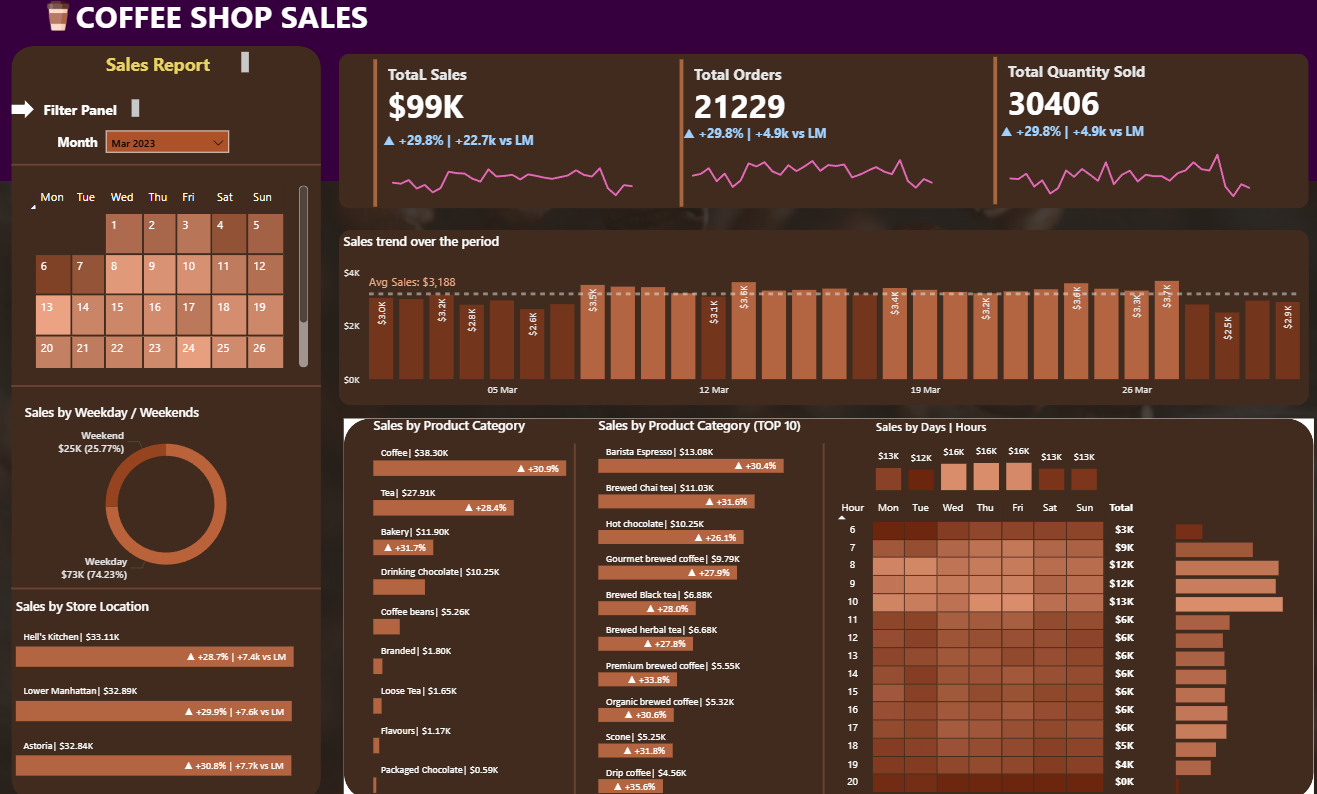

What the dashboard file says about the page in this screenshot:
{"tool":"powerbi","page":{"name":"Page 1","canvas":[1400,850],"ordinal":0},"visuals":[{"type":"shape","box":[366.7,449.4,1019.8,400.8],"z":0},{"type":"shape","box":[0,0,1400.9,199.8],"z":1000},{"type":"shape","box":[17.1,57.8,325.9,792.4],"z":2000},{"type":"shape","box":[361.4,65.7,1019.8,163],"z":3000},{"type":"textbox","box":[80.2,0,339.1,59.1],"z":4000},{"type":"cardVisual","fields":{"Data":["coffee_sales.Total Quantity Sold"]},"box":[1044.8,64.4,299.6,165.6],"z":4000,"group":"g3"},{"type":"cardVisual","fields":{"Data":["coffee_sales.TotaL Sales"]},"box":[392.9,67,299.6,165.6],"z":4000,"group":"g1"},{"type":"cardVisual","fields":{"Data":["coffee_sales.Total Orders"]},"box":[715.2,67,299.6,165.6],"z":4000,"group":"g2"},{"type":"slicer","fields":{"Values":["Date Table.Month Year"]},"box":[111.7,141.9,139.3,38.1],"z":5000},{"type":"group","id":"g1","title":"Group 1","box":[392.9,67,299.6,165.6],"z":6000},{"type":"lineChart","fields":{"Category":["Date Table.Date.Variation.Date Hierarchy.Year","Date Table.Date.Variation.Date Hierarchy.Quarter","Date Table.Date.Variation.Date Hierarchy.Month","Date Table.Date.Variation.Date Hierarchy.Day"],"Y":["coffee_sales.Total Quantity Sold"]},"box":[1052.3,137.9,281.2,85.4],"z":6000,"group":"g3"},{"type":"lineChart","fields":{"Category":["Date Table.Date.Variation.Date Hierarchy.Year","Date Table.Date.Variation.Date Hierarchy.Quarter","Date Table.Date.Variation.Date Hierarchy.Month","Date Table.Date.Variation.Date Hierarchy.Day"],"Y":["coffee_sales.Total Orders"]},"box":[718.5,140.5,281.2,85.4],"z":6000,"group":"g2"},{"type":"lineChart","fields":{"Category":["Date Table.Date.Variation.Date Hierarchy.Year","Date Table.Date.Variation.Date Hierarchy.Quarter","Date Table.Date.Variation.Date Hierarchy.Month","Date Table.Date.Variation.Date Hierarchy.Day"],"Y":["coffee_sales.TotaL Sales"]},"box":[403.9,147.1,281.2,85.4],"z":6000,"group":"g1"},{"type":"group","id":"g2","title":"Group 1","box":[715.2,67,299.6,165.6],"z":7000},{"type":"group","id":"g3","title":"Group 1","box":[1044.8,64.4,299.6,165.6],"z":8000},{"type":"pivotTable","fields":{"Rows":["Date Table.Week Numbe"],"Columns":["Date Table.Day Name"],"Values":["Min(Date Table.Day Number)"]},"box":[27.6,199.8,306.2,201.1],"z":9000},{"type":"shape","box":[17.1,173.5,325.9,18.4],"z":10000},{"type":"shape","box":[589.8,475.8,39,373.7],"z":11000},{"type":"donutChart","title":"Sales by Weekday / Weekends","fields":{"Category":["Date Table.Weekday / Weekends"],"Y":["coffee_sales.TotaL Sales"]},"box":[26.3,433.7,307.5,194.5],"z":12000},{"type":"clusteredBarChart","title":" Sales by Store Location","fields":{"Category":["coffee_sales.store_location"],"Y":["coffee_sales.placeholder","coffee_sales.TotaL Sales"]},"box":[17.1,637.4,325.9,195.8],"z":13000},{"type":"shape","box":[361.4,251,1019.8,185],"z":14000},{"type":"columnChart","title":"Sales trend over the period","fields":{"Category":["coffee_sales.transaction_date"],"Y":["coffee_sales.TotaL Sales"]},"box":[361.4,253.6,1019.8,182.7],"z":15000},{"type":"clusteredBarChart","title":" Sales by Product Category","fields":{"Y":["coffee_sales.placeholder","coffee_sales.TotaL Sales"],"Category":["coffee_sales.product_category"]},"box":[393.2,447.3,235.6,402.2],"z":16000},{"type":"shape","box":[17.1,406.1,325.9,18.4],"z":17000},{"type":"clusteredBarChart","title":" Sales by Product Category (TOP 10)","fields":{"Y":["coffee_sales.placeholder","coffee_sales.TotaL Sales"],"Category":["coffee_sales.product_type"]},"box":[628.9,447.3,229.6,402.2],"z":18000},{"type":"shape","box":[851.6,475.7,39.4,373.2],"z":19000},{"type":"pivotTable","fields":{"Rows":["coffee_sales.Hour"],"Columns":["Date Table.Day Name"],"Values":["coffee_sales.TotaL Sales"]},"box":[876.6,530.9,349.6,318],"z":20000},{"type":"barChart","fields":{"Category":["coffee_sales.Hour"],"Y":["coffee_sales.TotaL Sales"]},"box":[1236.6,548,144.6,300.9],"z":21000},{"type":"columnChart","title":"Sales by Days | Hours","fields":{"Y":["coffee_sales.TotaL Sales"],"Category":["Date Table.Day Name"]},"box":[921.2,449.4,243.1,81.5],"z":22000},{"type":"shape","box":[17.1,619,325.9,18.4],"z":23000},{"type":"textbox","box":[60.5,144.6,80.2,28.9],"z":24000},{"type":"textbox","box":[111.7,59.1,160.3,32.9],"z":25000},{"type":"textbox","box":[46,109.1,110.4,28.9],"z":26000},{"type":"shape","box":[17.1,114.3,24,20],"z":27000},{"type":"image","box":[46,0,40.7,52.6],"z":28000}]}

Visuals, with their boxes in screenshot pixels (x1, y1, x2, y2), scaled from the page's 1400x850 canvas onto the 1317x794 screenshot:
shape: select_region(345, 420, 1304, 793)
shape: select_region(0, 0, 1316, 187)
shape: select_region(16, 54, 323, 793)
shape: select_region(340, 61, 1299, 214)
textbox: select_region(75, 0, 394, 55)
cardVisual - coffee_sales.Total Quantity Sold: select_region(983, 60, 1265, 215)
cardVisual - coffee_sales.TotaL Sales: select_region(370, 63, 651, 217)
cardVisual - coffee_sales.Total Orders: select_region(673, 63, 955, 217)
slicer - Date Table.Month Year: select_region(105, 133, 236, 168)
"Group 1" group: select_region(370, 63, 651, 217)
lineChart - Date Table.Date.Variation.Date Hierarchy.Year x Date Table.Date.Variation.Date Hierarchy.Quarter: select_region(990, 129, 1254, 209)
lineChart - Date Table.Date.Variation.Date Hierarchy.Year x Date Table.Date.Variation.Date Hierarchy.Quarter: select_region(676, 131, 940, 211)
lineChart - Date Table.Date.Variation.Date Hierarchy.Year x Date Table.Date.Variation.Date Hierarchy.Quarter: select_region(380, 137, 644, 217)
"Group 1" group: select_region(673, 63, 955, 217)
"Group 1" group: select_region(983, 60, 1265, 215)
pivotTable - Date Table.Week Numbe x Date Table.Day Name: select_region(26, 187, 314, 374)
shape: select_region(16, 162, 323, 179)
shape: select_region(555, 444, 592, 793)
"Sales by Weekday / Weekends" donutChart: select_region(25, 405, 314, 587)
" Sales by Store Location" clusteredBarChart: select_region(16, 595, 323, 778)
shape: select_region(340, 234, 1299, 407)
"Sales trend over the period" columnChart: select_region(340, 237, 1299, 408)
" Sales by Product Category" clusteredBarChart: select_region(370, 418, 592, 793)
shape: select_region(16, 379, 323, 397)
" Sales by Product Category (TOP 10)" clusteredBarChart: select_region(592, 418, 808, 793)
shape: select_region(801, 444, 838, 793)
pivotTable - coffee_sales.Hour x Date Table.Day Name: select_region(825, 496, 1154, 793)
barChart - coffee_sales.Hour x coffee_sales.TotaL Sales: select_region(1163, 512, 1299, 793)
"Sales by Days | Hours" columnChart: select_region(867, 420, 1095, 496)
shape: select_region(16, 578, 323, 595)
textbox: select_region(57, 135, 132, 162)
textbox: select_region(105, 55, 256, 86)
textbox: select_region(43, 102, 147, 129)
shape: select_region(16, 107, 39, 125)
image: select_region(43, 0, 82, 49)
